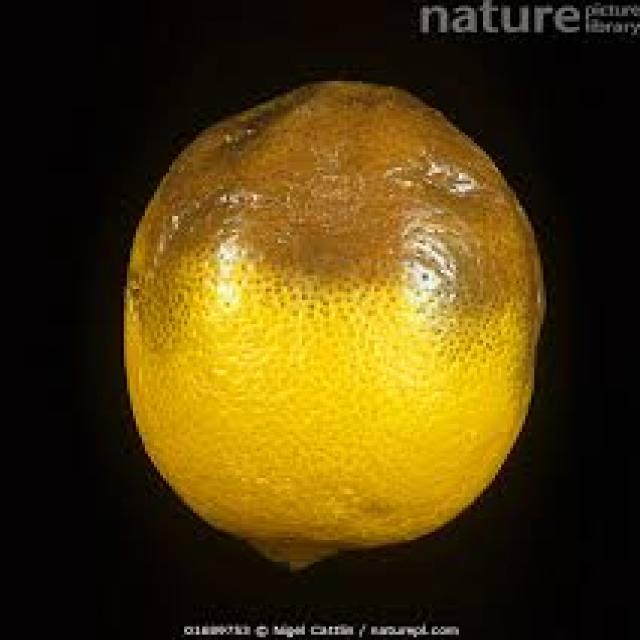Rotten: (118, 76, 548, 570)
